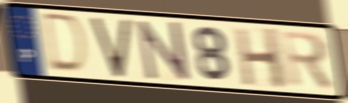8: (192, 25, 232, 83)
D: (43, 11, 90, 77)
H: (232, 26, 289, 91)
N: (135, 19, 193, 82)
R: (279, 28, 337, 93)
V: (89, 16, 132, 79)
